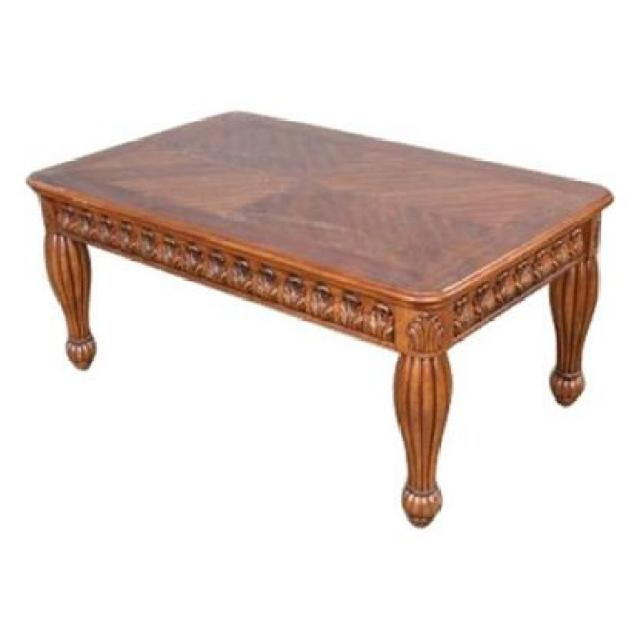table: (28, 106, 615, 522)
